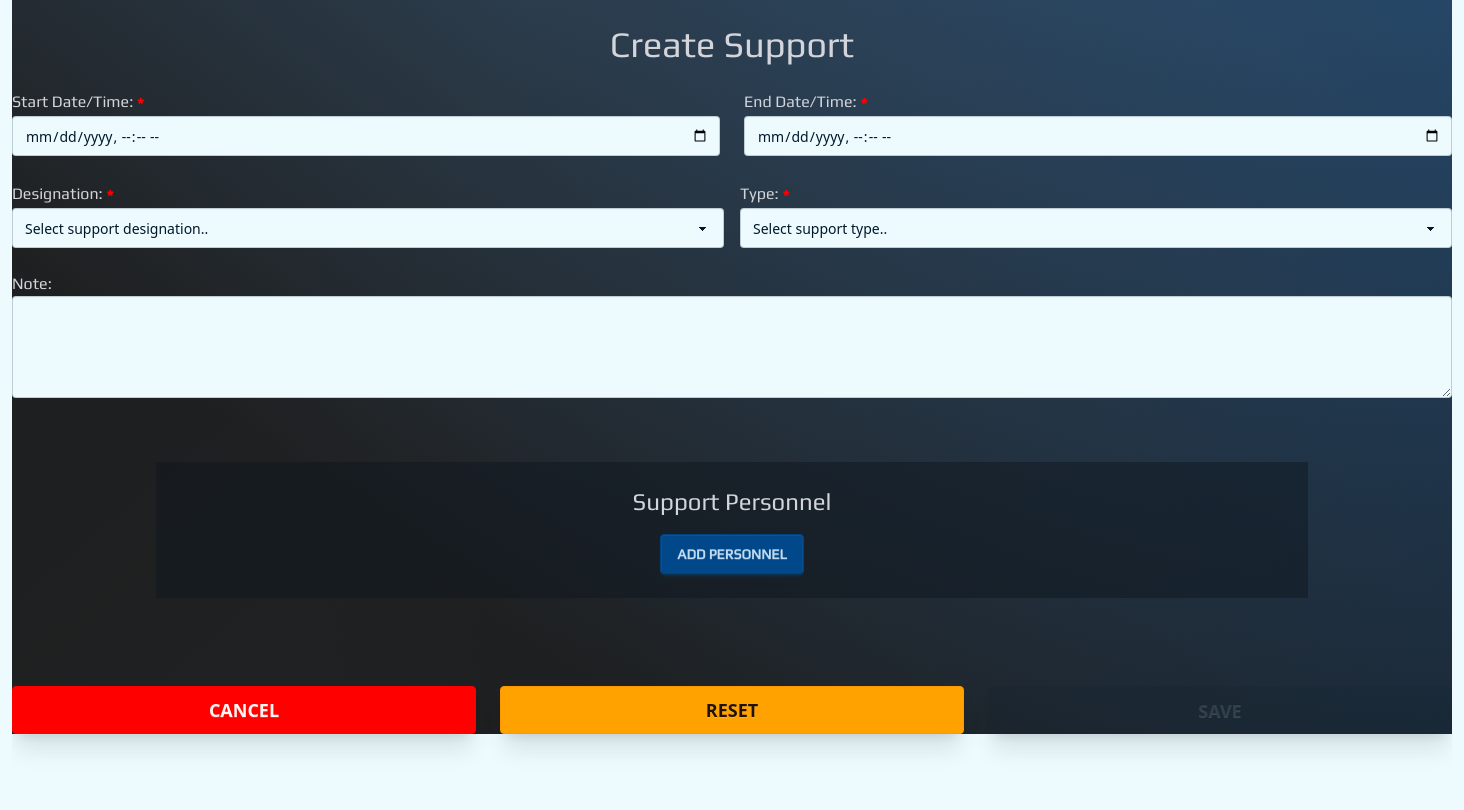
CreateSupportForm › shows a validation error on the start date when the field is blurred empty
Click the field below "Start Date/Time:" at [366, 136], box [12,116,720,156]
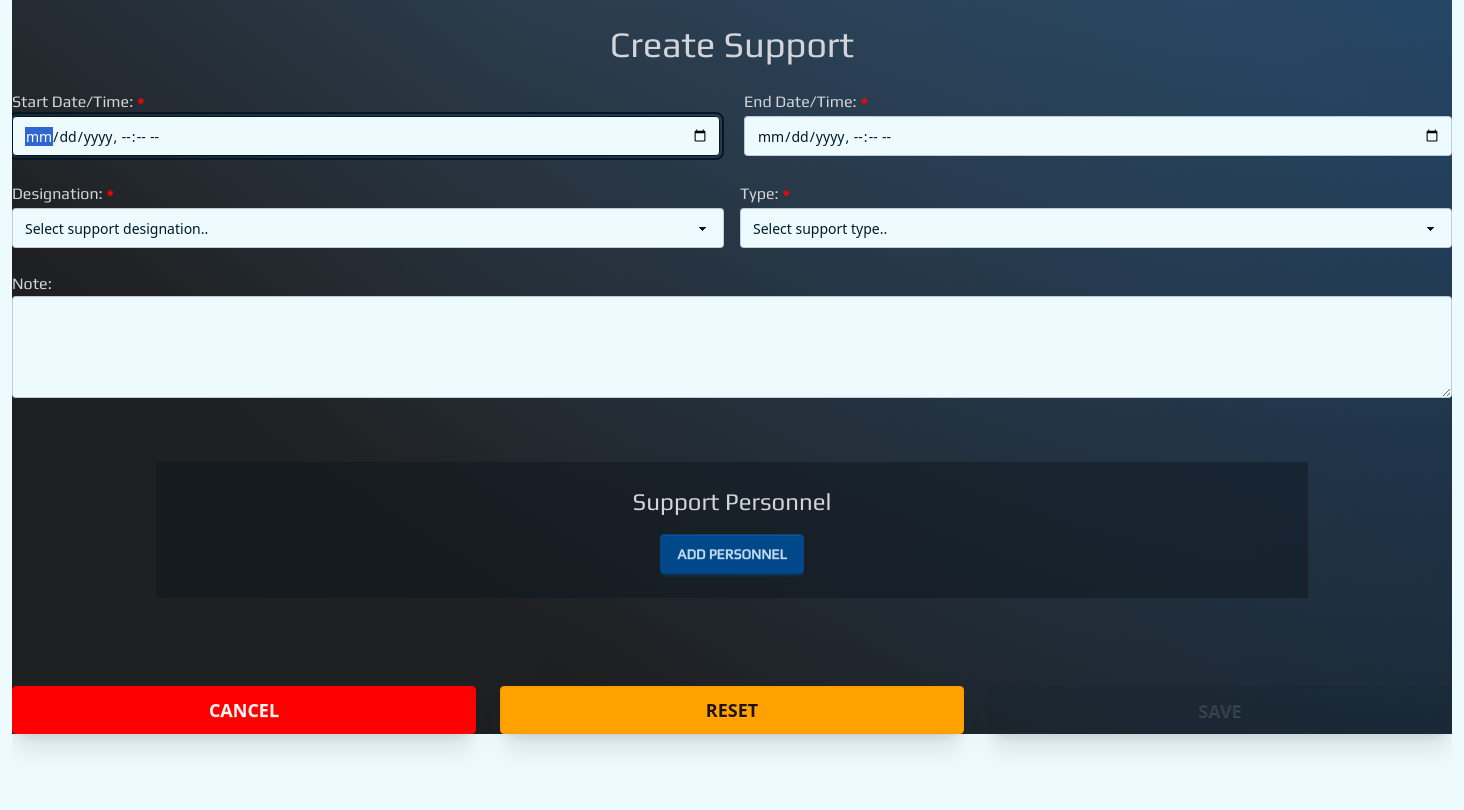
Press Tab
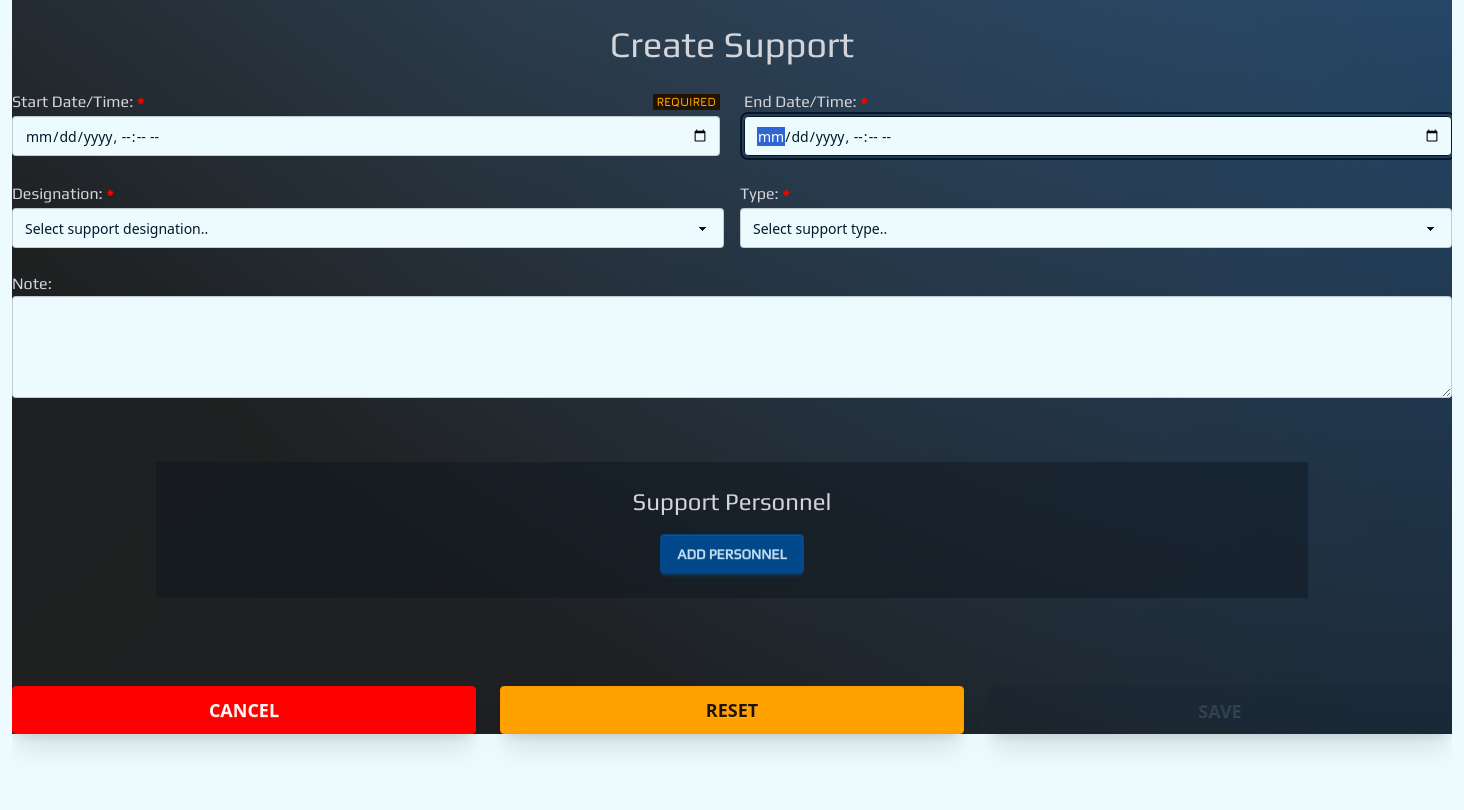
Check: the text "Required" is shown, box [653,94,720,110]
